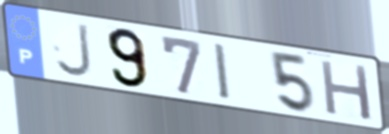5: (266, 49, 319, 115)
7: (158, 33, 204, 97)
9: (104, 26, 151, 91)
H: (317, 57, 375, 123)
I: (211, 41, 234, 104)
J: (53, 21, 96, 80)
